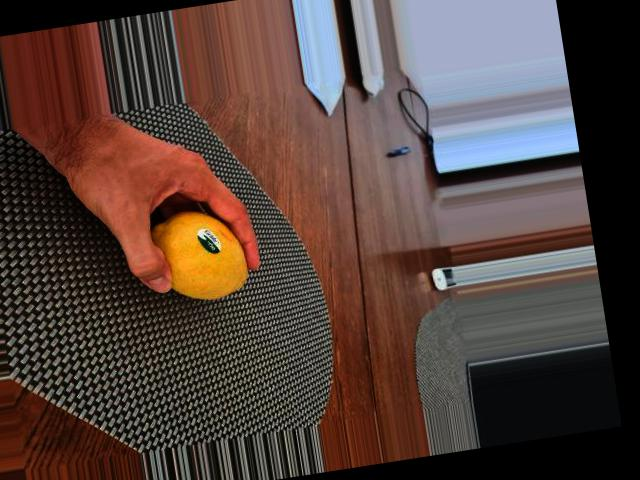lemon: (138, 201, 256, 306)
